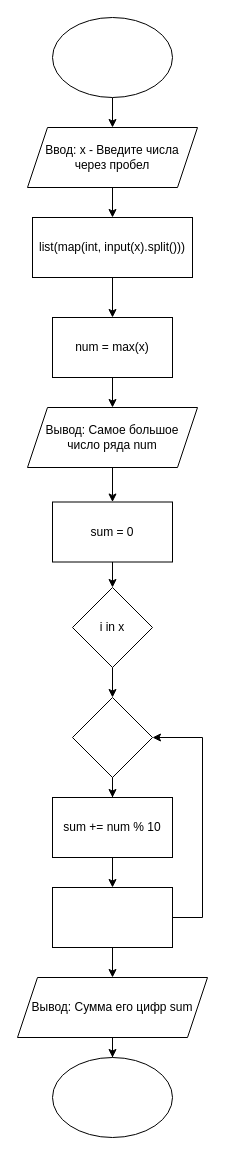
Some shapes in this 228 by 1155 pixel diagram are drawn without their labels. The box of each missing label's shape, as (x1, y1, x2, y2) in pixels:
num != 0: (72, 696, 152, 778)
num //= 10: (52, 886, 172, 948)
Конец: (52, 1056, 172, 1138)
Начало: (52, 16, 172, 98)
